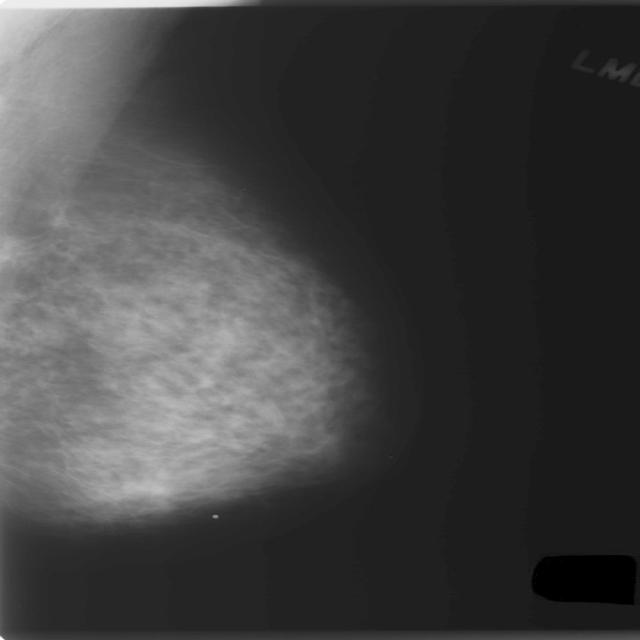tumour: (119, 479, 170, 497)
